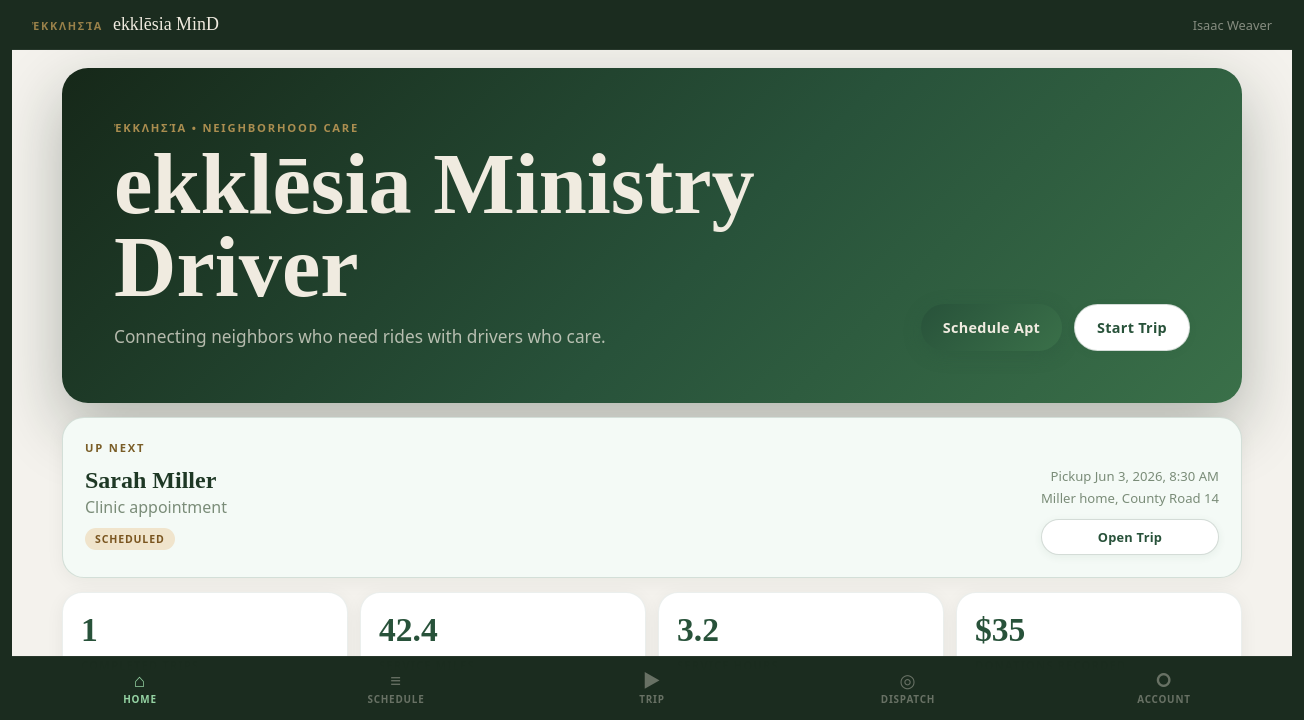
App — main app trip workflow › shows donation settings and receipt in the Trip tab
Expected: the navigation bar named "Main navigation" is shown, [12,656,1292,719]
Click the button "▶ Trip": (652,688) [524,657,780,719]
(page scrolled)
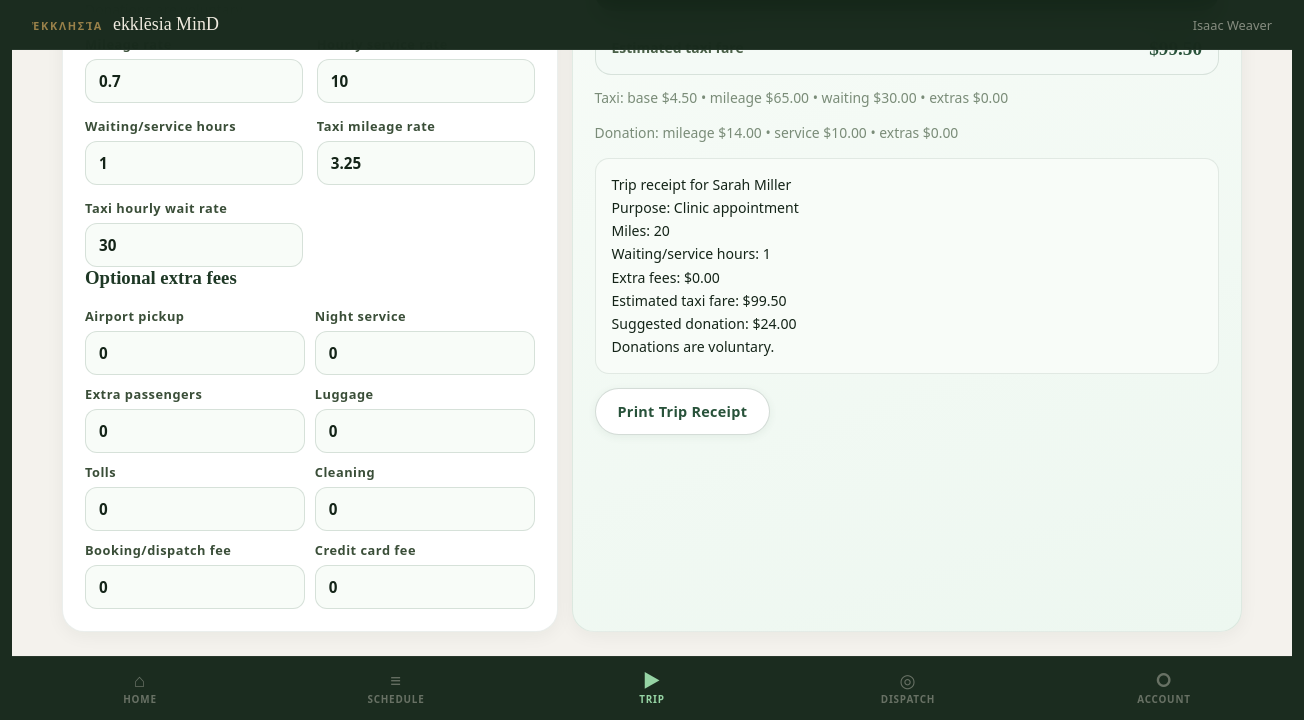
Expected: the button "Print Trip Receipt" is shown, [594,388,770,435]
